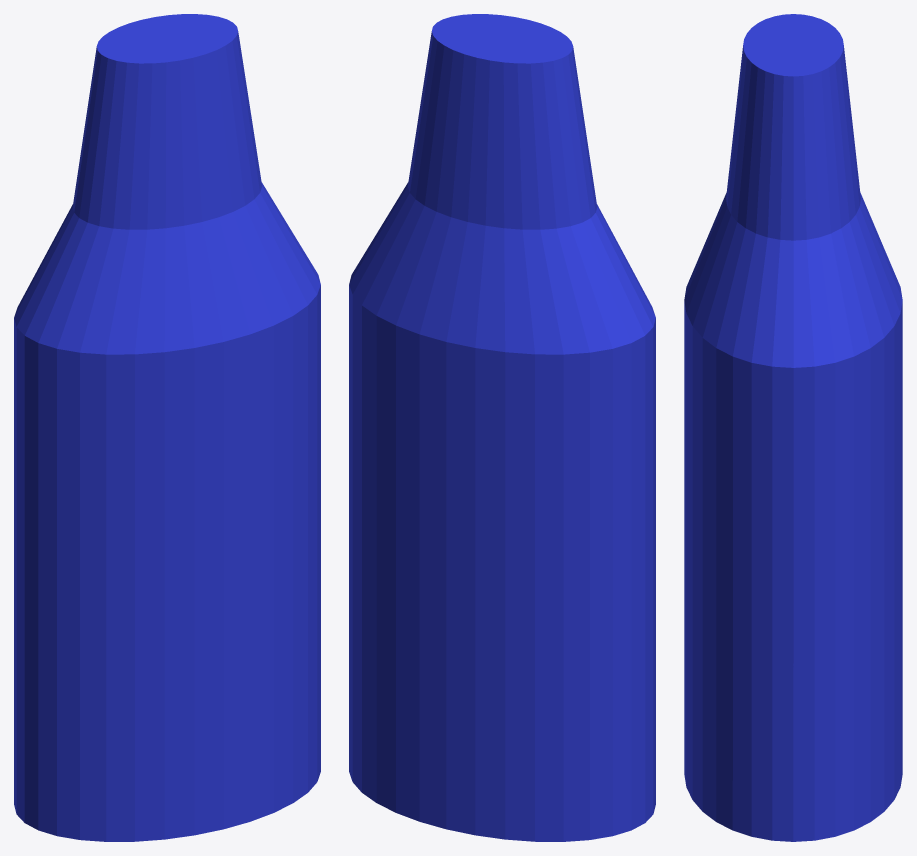
File: UMUM_BOTOL4.fbx
3 views of the same model, side by side, from view 1: azimuth 30°, elevation 25°; view 2: azimuth 150°, elevation 25°; view 3: azimuth 270°, elevation 25° (orthographic). The views are drawn at different scales.
Visible parts, largest first — view 1: Cylinder.051; view 2: Cylinder.051; view 3: Cylinder.051.
Boxes of the visible parts, box(x1,y1,x2,y2) form: Cylinder.051: box(14, 14, 320, 841); Cylinder.051: box(349, 14, 655, 841); Cylinder.051: box(684, 14, 902, 841).
Bounding box in the file's own units: 18.5 × 46.42 × 12.6.
